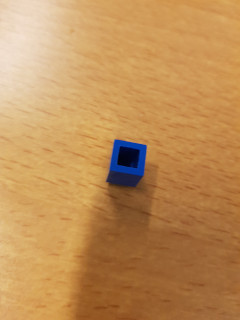1x1 blue: (104, 137, 149, 189)
